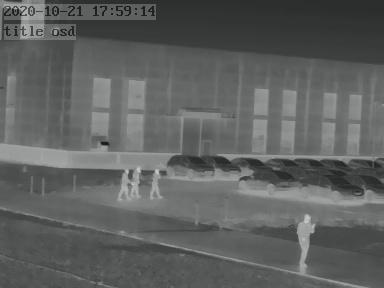person: (295, 211, 313, 266), (148, 167, 163, 198), (129, 165, 143, 198), (118, 169, 130, 198)
vehicle: (302, 171, 364, 203), (239, 169, 303, 191), (165, 152, 212, 179), (205, 153, 242, 177), (349, 173, 382, 199), (233, 154, 270, 171), (262, 155, 296, 170), (348, 156, 380, 170), (317, 156, 347, 170), (296, 155, 324, 169)
